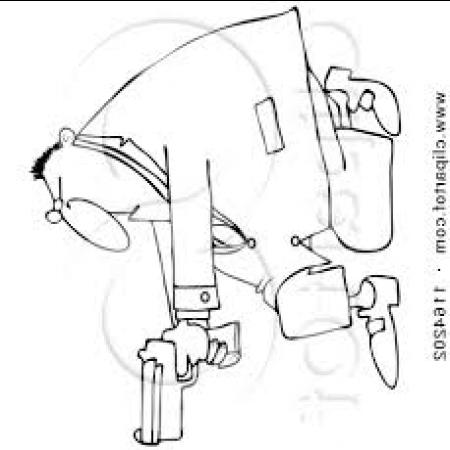Pistol: (125, 311, 246, 442)
